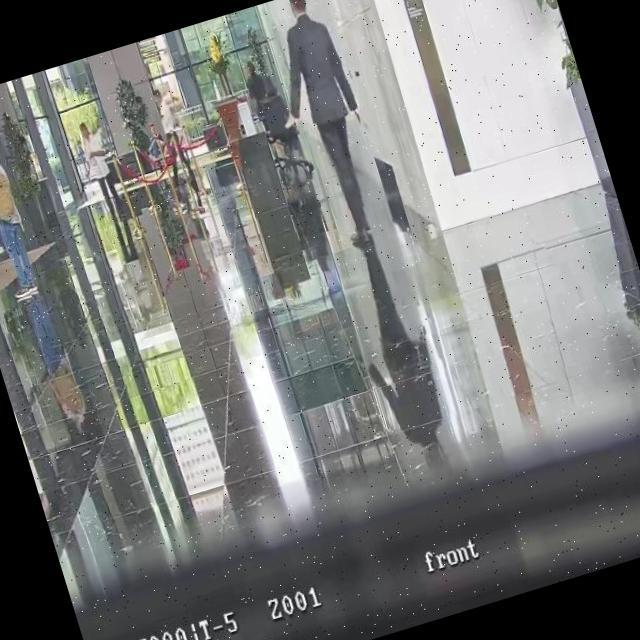person: (253, 0, 400, 258), (74, 116, 143, 264), (0, 136, 41, 294), (74, 117, 130, 223), (144, 86, 198, 192), (238, 56, 285, 152), (140, 120, 168, 158)
